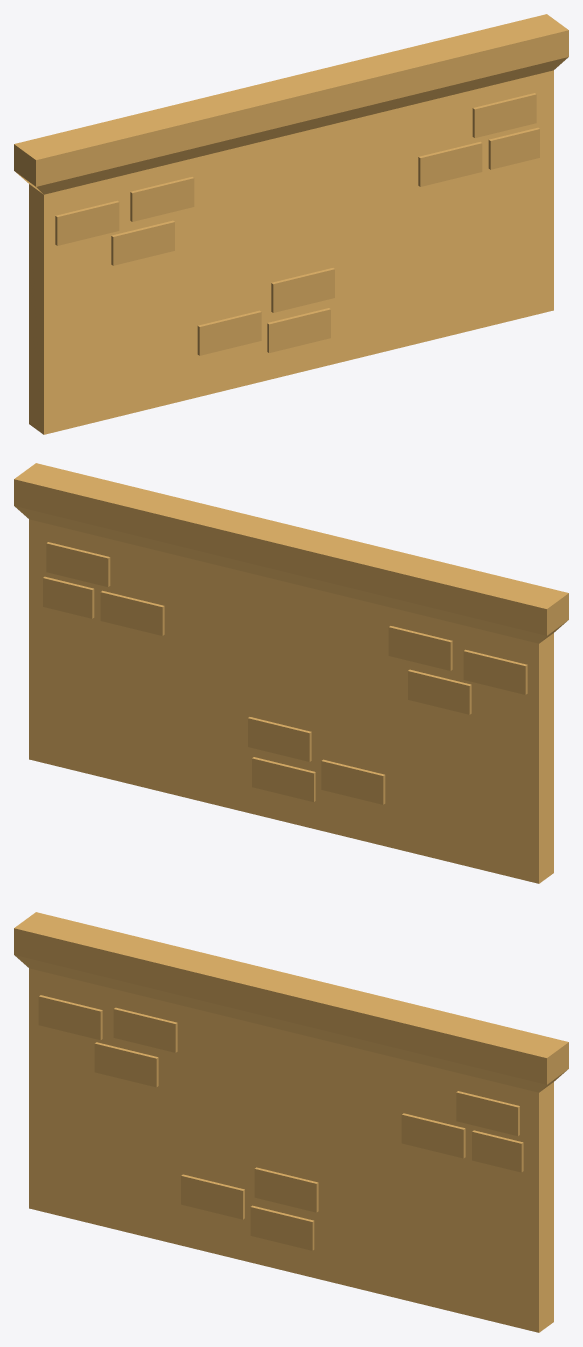
File: Wall2.fbx
3 renders of one model, top to bottom at view 1: azimuth 30°, elevation 25°; view 2: azimuth 150°, elevation 25°; view 3: azimuth 330°, elevation 25°, orthographic.
Visible parts, largest first — view 1: Wall, Cube.004, Cube.005, Cube.006, Cube.007, Cube, Cube.003, Cube.001, Cube.002, Cube.008; view 2: Wall, Cube.004, Cube.005, Cube.006, Cube.007, Cube, Cube.003, Cube.001, Cube.002, Cube.008; view 3: Wall, Cube.005, Cube.001, Cube.002, Cube.003, Cube.007, Cube.004, Cube, Cube.006, Cube.008.
Boxes of the visible parts, left/top/right/bottom form: Wall: left=14, top=14, right=568, bottom=434; Cube.004: left=55, top=200, right=119, bottom=245; Cube.005: left=130, top=177, right=194, bottom=221; Cube.006: left=472, top=93, right=536, bottom=137; Cube.007: left=418, top=141, right=482, bottom=186; Cube: left=197, top=310, right=261, bottom=355; Cube.003: left=111, top=220, right=174, bottom=265; Cube.001: left=267, top=308, right=330, bottom=352; Cube.002: left=271, top=268, right=334, bottom=312; Cube.008: left=488, top=127, right=539, bottom=169; Wall: left=14, top=463, right=568, bottom=883; Cube.004: left=463, top=649, right=527, bottom=694; Cube.005: left=388, top=626, right=452, bottom=670; Cube.006: left=46, top=542, right=110, bottom=586; Cube.007: left=100, top=590, right=164, bottom=635; Cube: left=321, top=759, right=385, bottom=804; Cube.003: left=408, top=669, right=471, bottom=714; Cube.001: left=252, top=757, right=315, bottom=801; Cube.002: left=248, top=717, right=311, bottom=761; Cube.008: left=43, top=576, right=94, bottom=618; Wall: left=14, top=912, right=568, bottom=1332; Cube.005: left=113, top=1007, right=177, bottom=1052; Cube.001: left=250, top=1205, right=314, bottom=1250; Cube.002: left=254, top=1167, right=318, bottom=1212; Cube.003: left=94, top=1042, right=158, bottom=1087; Cube.007: left=401, top=1113, right=465, bottom=1158; Cube.004: left=38, top=995, right=102, bottom=1040; Cube: left=181, top=1174, right=244, bottom=1219; Cube.006: left=456, top=1091, right=519, bottom=1135; Cube.008: left=472, top=1130, right=523, bottom=1172.
Bounding box in the file's own units: 418 × 210 × 30.
